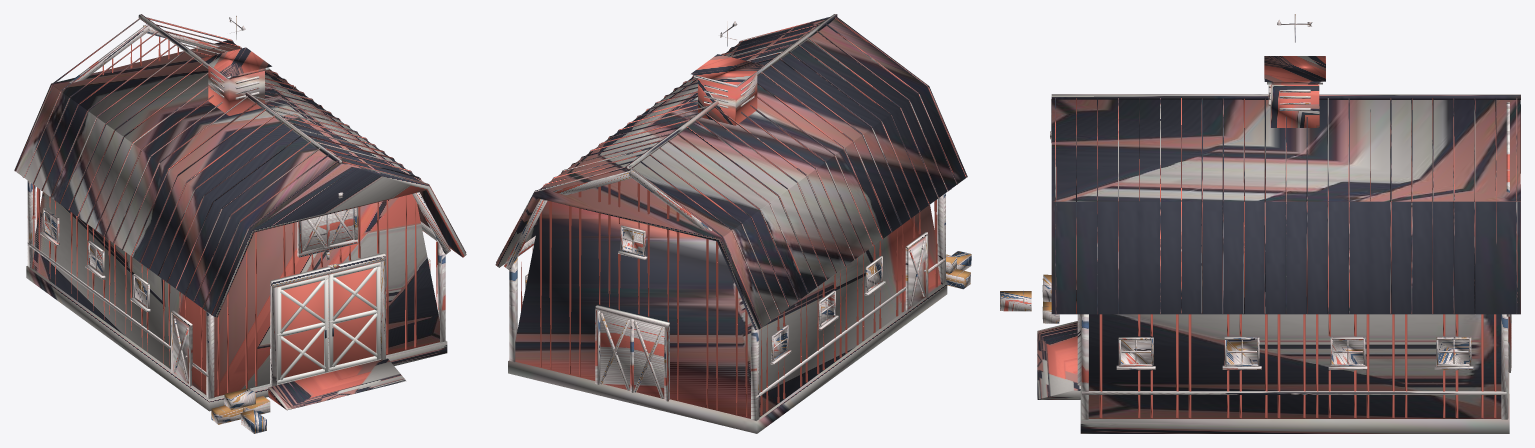
File: barn.glb
3 views of the same model, side by side, from view 1: azimuth 30°, elevation 25°; view 2: azimuth 150°, elevation 25°; view 3: azimuth 270°, elevation 25° (orthographic). The views are drawn at different scales.
Visible parts, largest first — view 1: barn_body, barn_barn_door_left, barn_trim; view 2: barn_body, barn_trim, barn_barn_door_left; view 3: barn_body, barn_trim, barn_barn_door_left.
Part boxes in pixels (left/top/right/bottom): barn_body: left=14, top=14, right=466, bottom=411; barn_barn_door_left: left=32, top=36, right=437, bottom=395; barn_trim: left=22, top=16, right=450, bottom=433; barn_body: left=495, top=14, right=967, bottom=433; barn_trim: left=504, top=21, right=971, bottom=420; barn_barn_door_left: left=521, top=181, right=937, bottom=417; barn_body: left=1037, top=56, right=1520, bottom=433; barn_trim: left=1000, top=14, right=1511, bottom=419; barn_barn_door_left: left=1099, top=314, right=1508, bottom=418.
Size of the model in its own units: 9.79 by 11 by 14.74.
5 materials, 2 textured.
